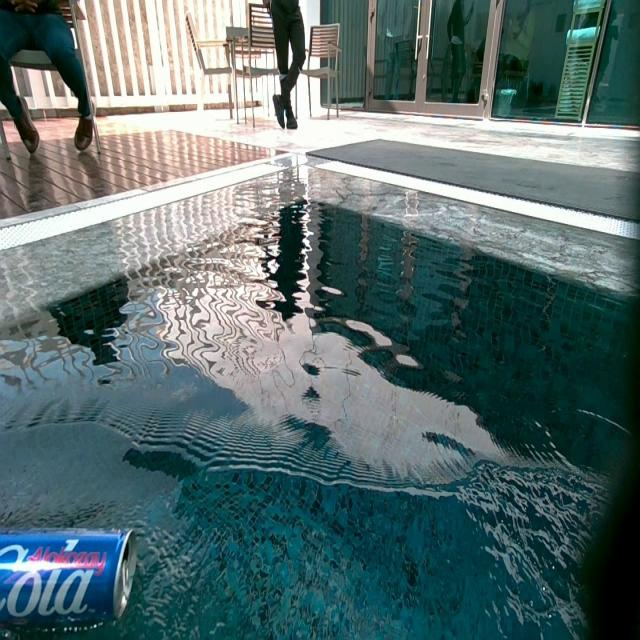Cans: (0, 529, 136, 630)
